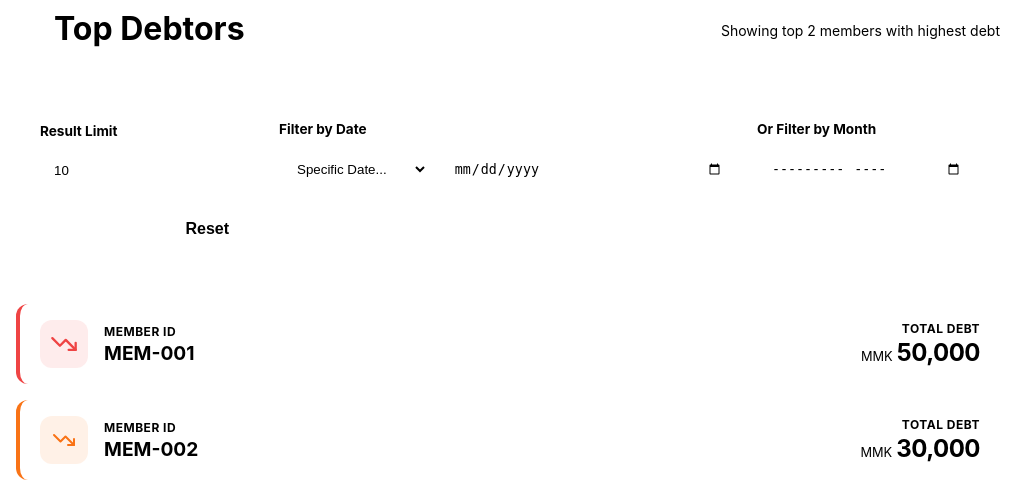
Test: TopDebtors Component › resets filters when "Reset" is clicked
Replace the text in the number field labelled "Result Limit" with "50" at (150, 171), box [40,153,259,188]
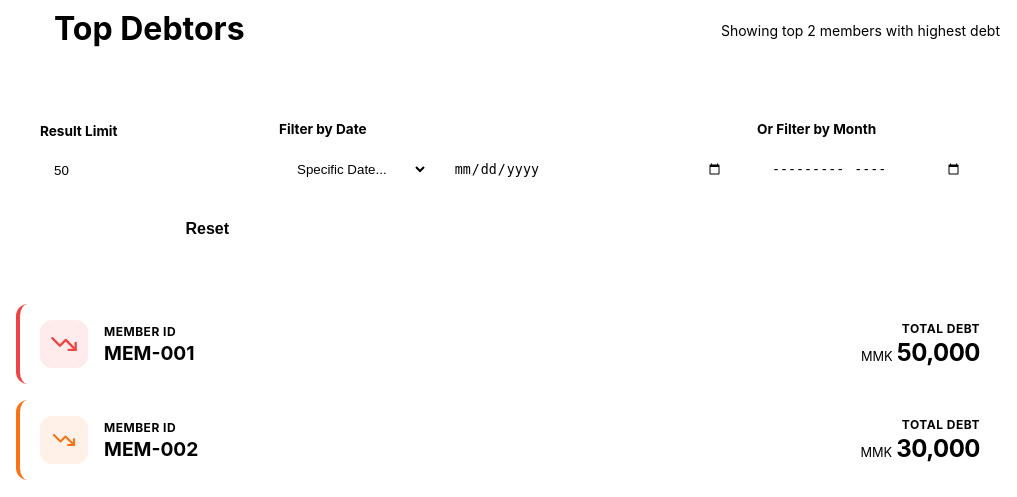
Click the button "Reset".
click(207, 229)  # box [156,208,259,250]
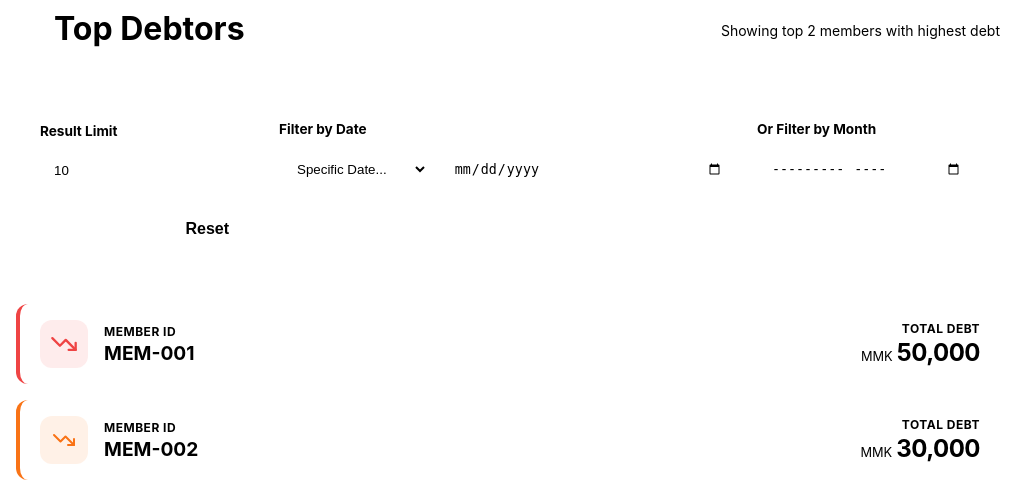
Expected: the number field labelled "Result Limit" holds "10", [40,153,259,188]
